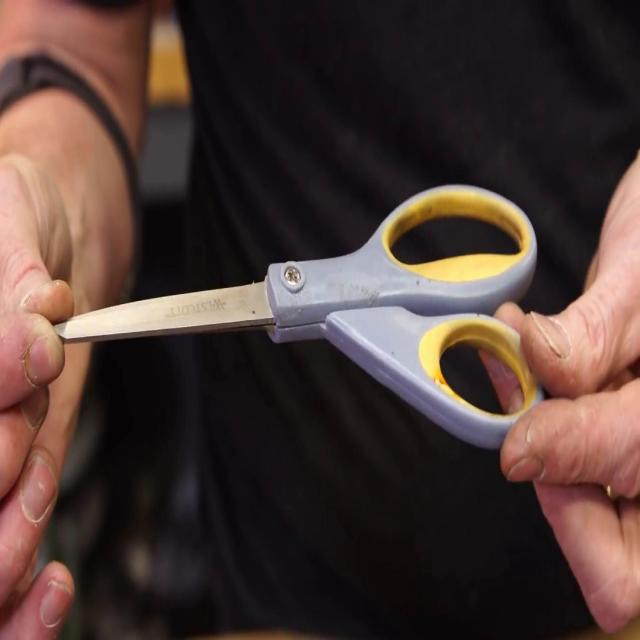scissor: (51, 184, 545, 448)
